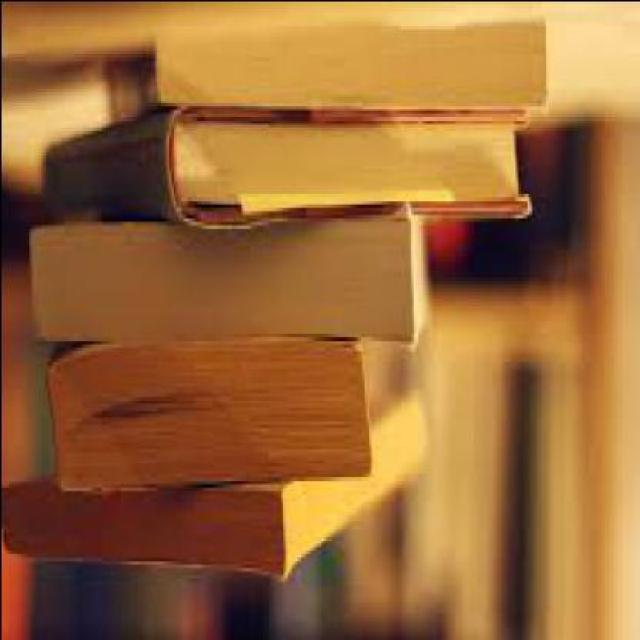PAPER: (2, 420, 430, 588), (44, 343, 410, 500), (112, 3, 550, 126), (47, 119, 533, 228), (35, 217, 416, 346)
